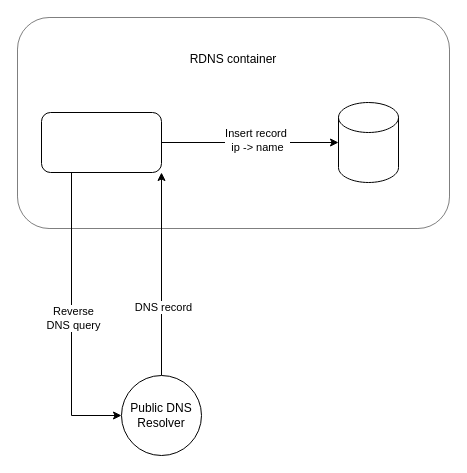
The diagram is 467 pixels wide and 473 high, and some of its shapes have lost their labels. The shapes that lost their labels are listed below. From the top down, each one's centre as x and y in pixels, then its label:
At (x=101, y=142): "rdns aganet".
At (x=368, y=142): "rdsndb".
